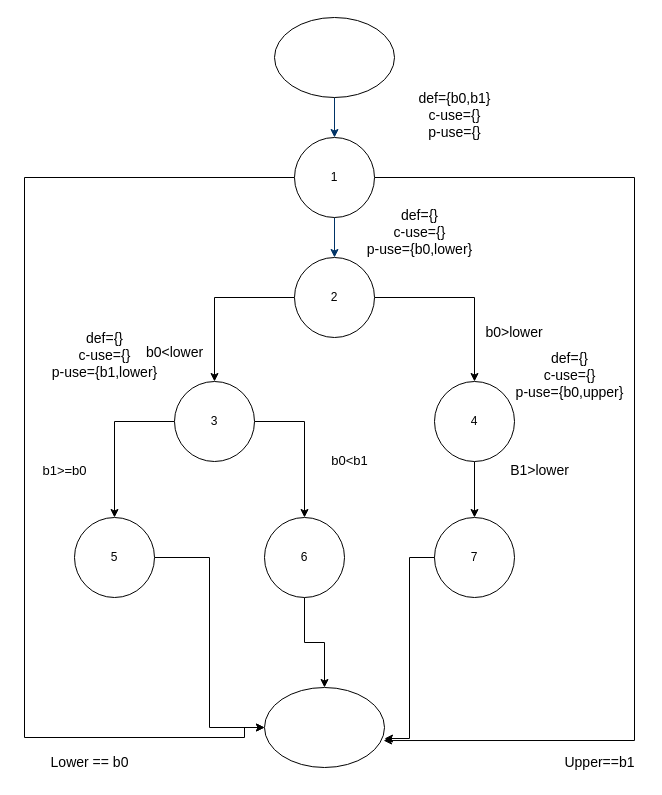
This 662x795 diagram has some shape labels left out. Each missing label, with the centre of its shape:
End: the point at 324,727
Start: the point at 334,57
